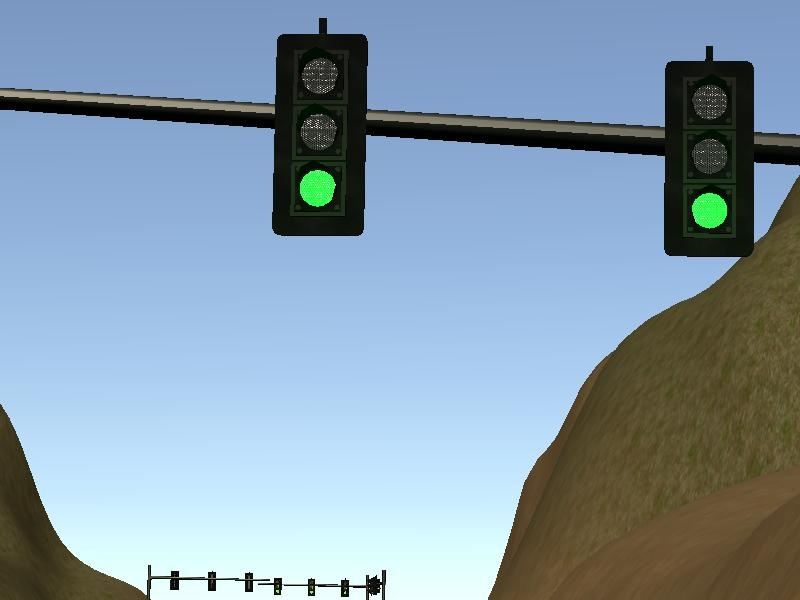GREEN: (663, 58, 756, 258), (276, 35, 365, 238)
